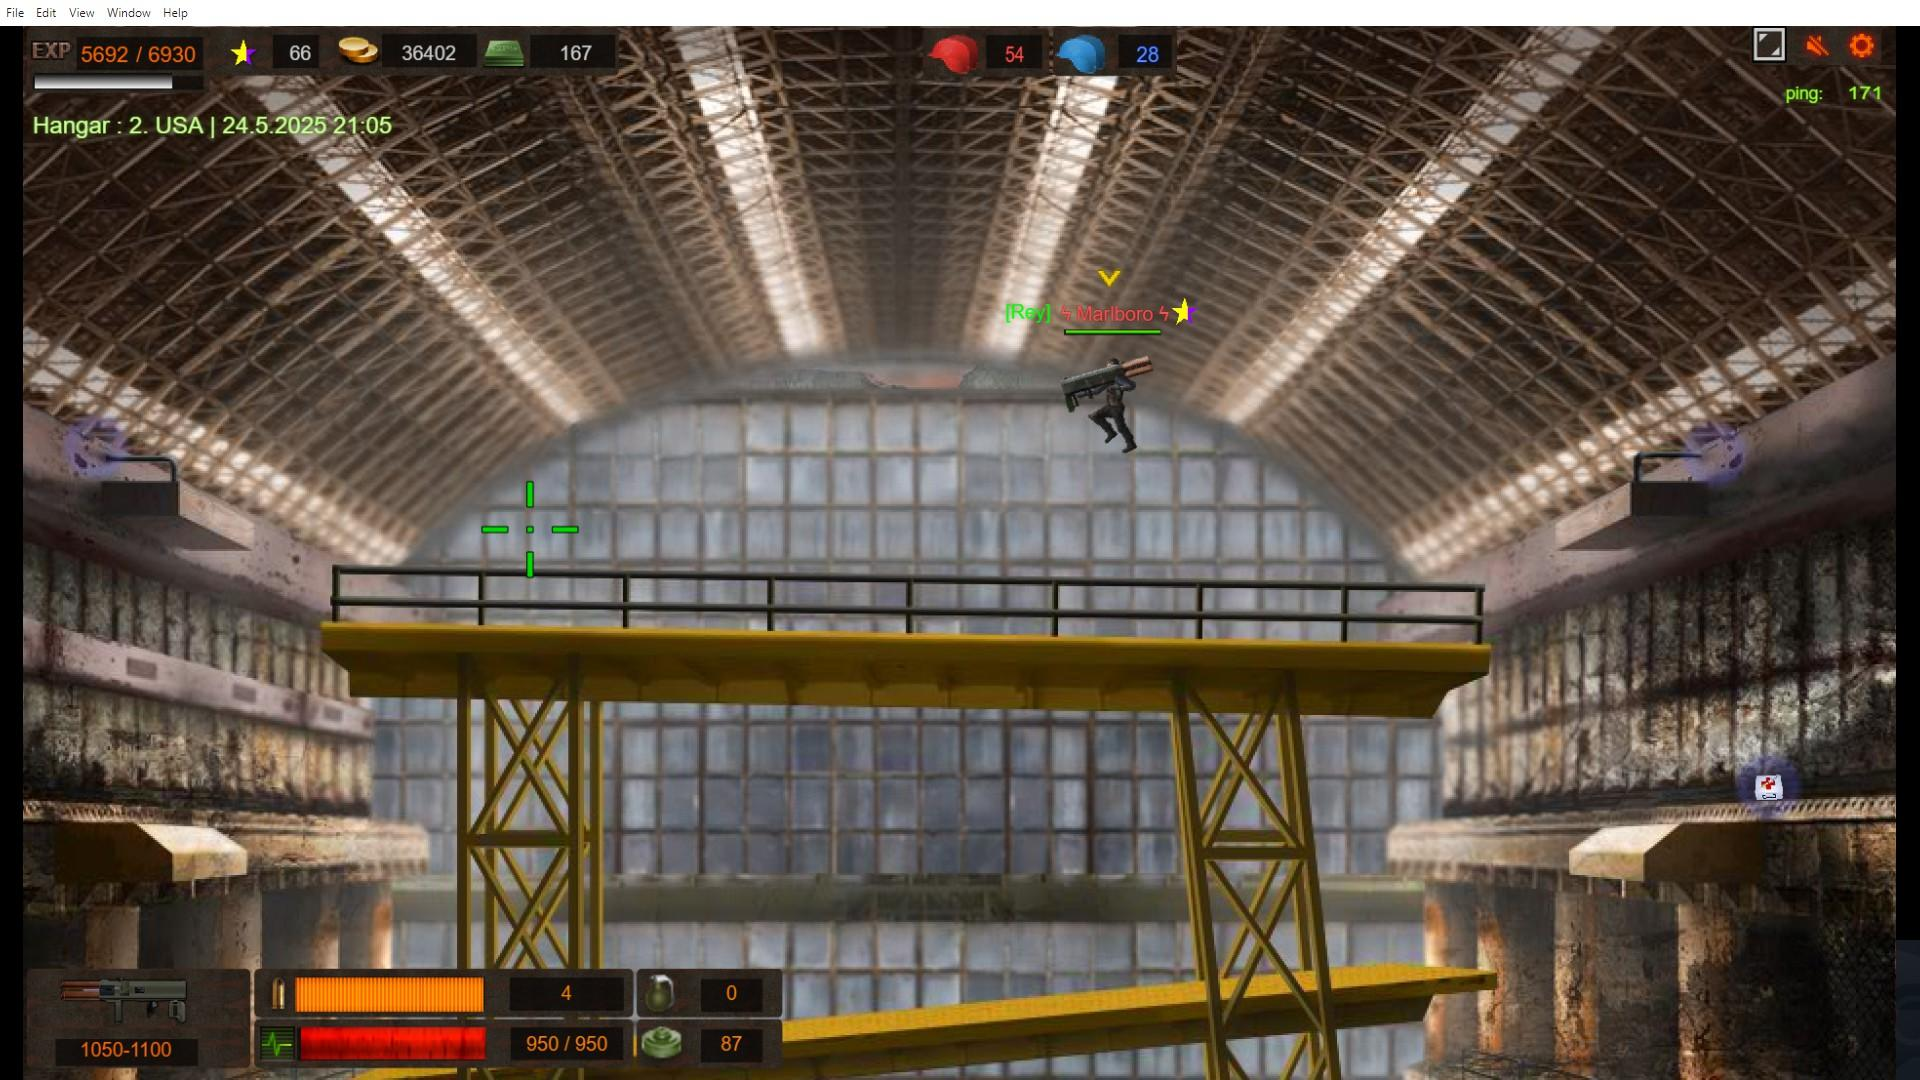enemy: (1101, 360, 1129, 448)
